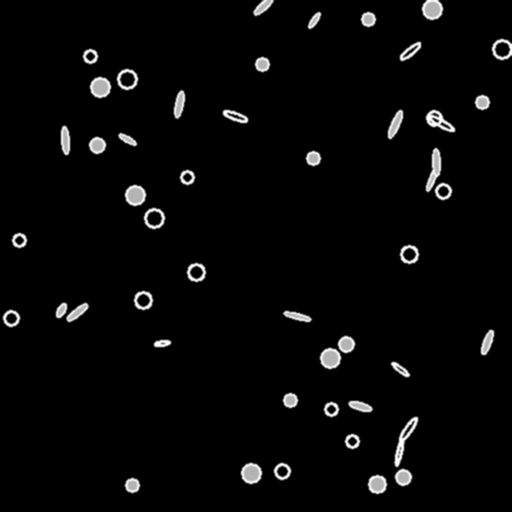pseudomonas: (427, 113, 455, 133), (398, 416, 418, 442), (386, 110, 404, 138), (398, 41, 422, 61), (66, 302, 88, 322), (425, 165, 439, 191), (223, 109, 247, 123), (480, 330, 494, 354), (284, 310, 310, 322), (173, 91, 185, 117), (253, 0, 273, 15), (348, 400, 372, 412), (391, 361, 409, 377), (394, 438, 404, 466), (118, 132, 136, 146), (307, 12, 321, 28), (61, 126, 69, 154), (432, 149, 440, 175), (55, 302, 67, 318), (154, 339, 170, 347)
synechocystis: (118, 70, 136, 88), (493, 40, 511, 58), (126, 186, 144, 204), (242, 464, 260, 482), (423, 0, 441, 18), (91, 78, 109, 96), (145, 209, 163, 227), (321, 349, 339, 367), (369, 476, 385, 492), (401, 246, 417, 262), (135, 292, 151, 308), (188, 264, 204, 280), (339, 337, 353, 351), (4, 311, 18, 325), (275, 464, 289, 478), (436, 184, 450, 198), (427, 111, 441, 125), (396, 470, 410, 484), (90, 138, 104, 152), (325, 403, 337, 415), (13, 234, 25, 246), (84, 50, 96, 62), (284, 394, 296, 406), (256, 58, 268, 70), (346, 435, 358, 447), (126, 479, 138, 491), (307, 152, 319, 164), (362, 13, 374, 25), (181, 171, 193, 183), (476, 96, 488, 108)
